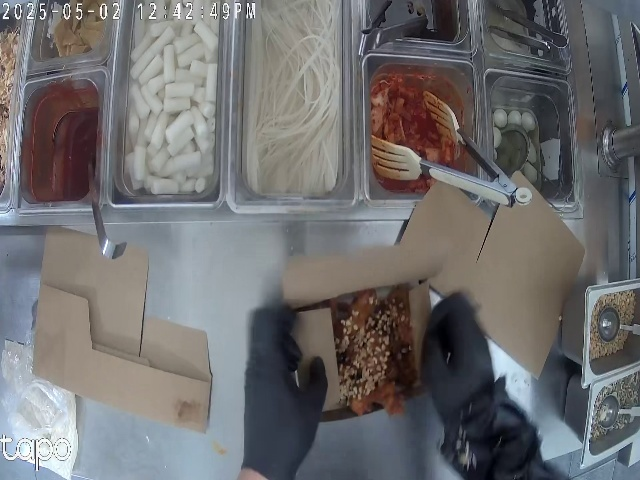delivery box: (289, 244, 437, 419)
food: (302, 296, 421, 397)
hand: (432, 271, 514, 438), (245, 308, 315, 460)
